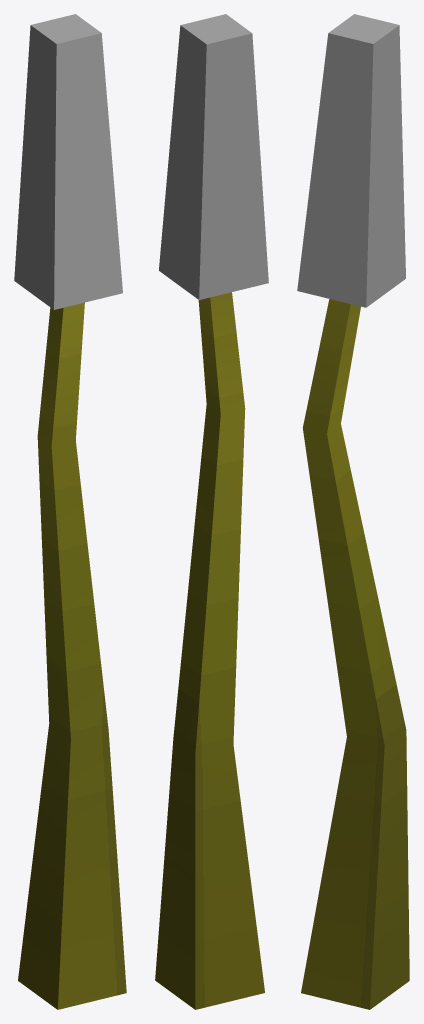
The model's file is 3D_Grass4.fbx.
3 renders of one model, left to right at view 1: azimuth 30°, elevation 25°; view 2: azimuth 210°, elevation 25°; view 3: azimuth 330°, elevation 25°, orthographic.
Visible parts, largest first — view 1: Grass4; view 2: Grass4; view 3: Grass4.
Boxes of the visible parts, x1,y1,x2,y2 form: Grass4: (14, 14, 126, 1009); Grass4: (155, 14, 268, 1009); Grass4: (297, 14, 409, 1009).
Size of the model in its own units: 2.49 by 31.11 by 2.39.
